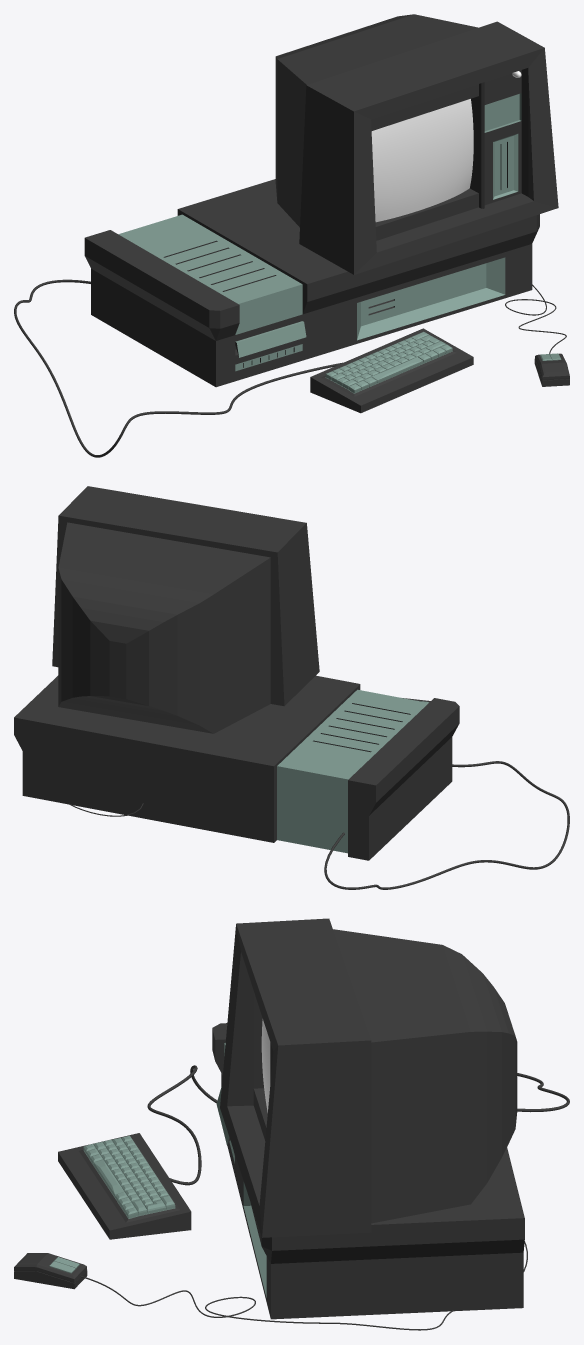
File: compu.fbx
3 renders of one model, top to bottom at view 1: azimuth 30°, elevation 25°; view 2: azimuth 150°, elevation 25°; view 3: azimuth 270°, elevation 25°, orthographic. The views are drawn at different scales.
Parts seen in each view (by area): view 1: monitor, gabinete, vidrio compu, teclado, cable teclado, mouse; view 2: monitor, gabinete, cable teclado; view 3: monitor, gabinete, teclado, mouse, cable teclado, cable mouse, vidrio compu.
Boxes of the visible parts, <box> form: monitor: <box>275,14,558,274</box>; gabinete: <box>84,179,539,387</box>; vidrio compu: <box>371,99,473,222</box>; teclado: <box>310,328,473,413</box>; cable teclado: <box>14,279,342,457</box>; mouse: <box>534,353,569,386</box>; monitor: <box>52,486,319,733</box>; gabinete: <box>14,675,459,860</box>; cable teclado: <box>324,761,569,889</box>; monitor: <box>220,918,517,1237</box>; gabinete: <box>212,1023,524,1319</box>; teclado: <box>58,1133,191,1239</box>; mouse: <box>14,1253,87,1289</box>; cable teclado: <box>147,1065,569,1185</box>; cable mouse: <box>80,1241,527,1330</box>; vidrio compu: <box>261,1019,270,1112</box>.
Bounding box in the file's own units: 8567 × 4916 × 7249.
